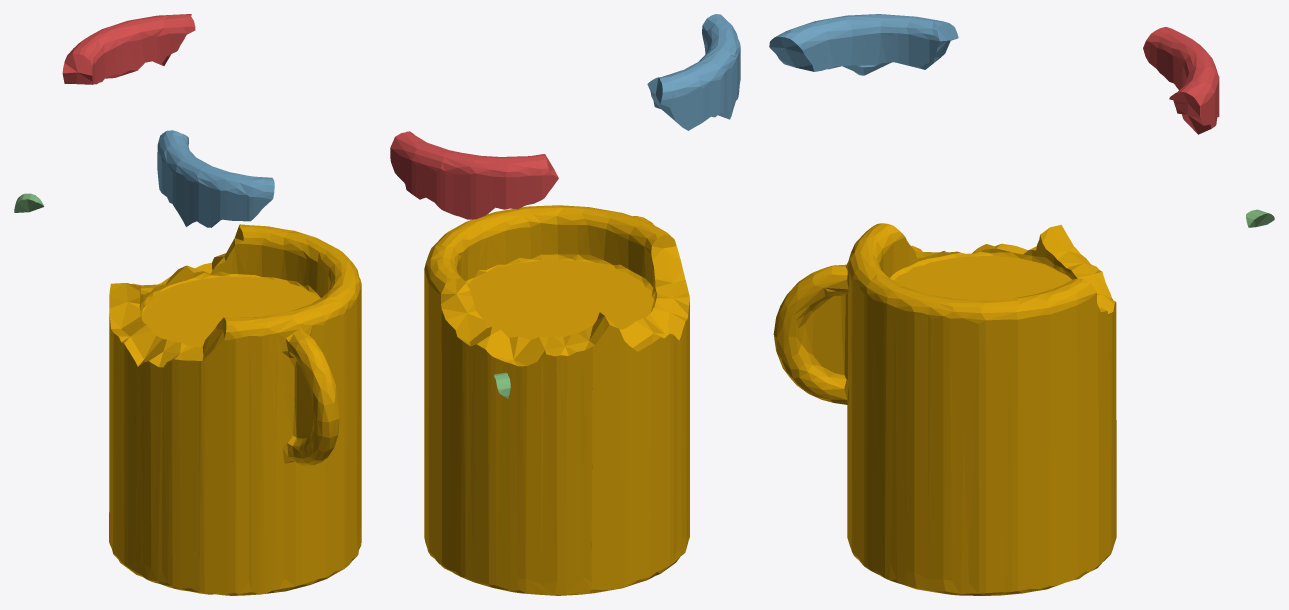
Rendered from fractured_7_4pcs_transformed.glb.
3 views of the same model, side by side, from view 1: azimuth 30°, elevation 25°; view 2: azimuth 150°, elevation 25°; view 3: azimuth 270°, elevation 25° (orthographic). The views are drawn at different scales.
Visible parts, largest first — view 1: piece_0.obj, piece_2.obj, piece_1.obj; view 2: piece_0.obj, piece_1.obj, piece_2.obj; view 3: piece_0.obj, piece_2.obj, piece_1.obj.
Part boxes in pixels (bbox=[...]): piece_0.obj: bbox=[109, 224, 361, 595]; piece_2.obj: bbox=[157, 130, 274, 227]; piece_1.obj: bbox=[62, 14, 195, 84]; piece_0.obj: bbox=[424, 205, 689, 595]; piece_1.obj: bbox=[390, 131, 558, 219]; piece_2.obj: bbox=[647, 14, 740, 130]; piece_0.obj: bbox=[773, 223, 1116, 595]; piece_2.obj: bbox=[769, 14, 958, 75]; piece_1.obj: bbox=[1143, 27, 1219, 134].
Bounding box in the file's own units: 0.7845 × 1.53 × 1.47.
